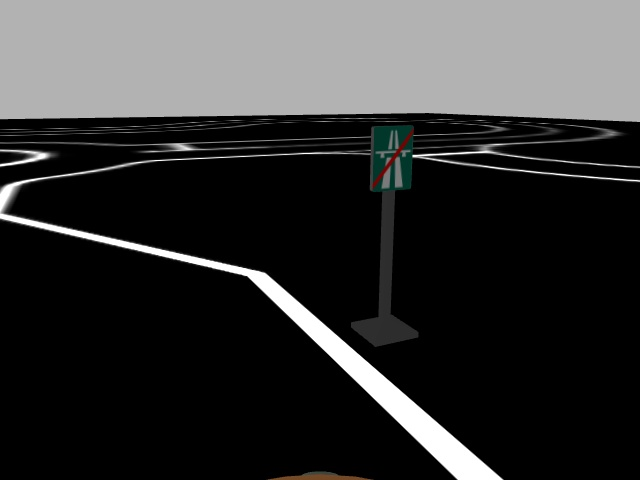leave_highway: (368, 123, 416, 191)
